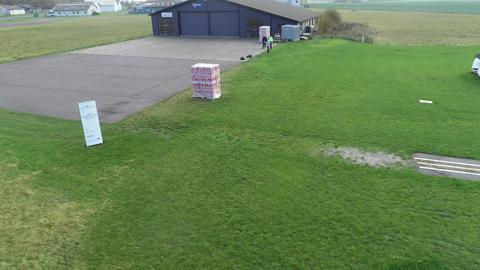RockwoolPallet: (258, 25, 271, 45)
